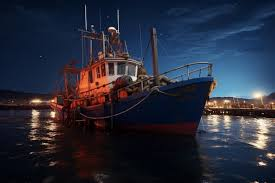boat: (48, 4, 217, 138)
